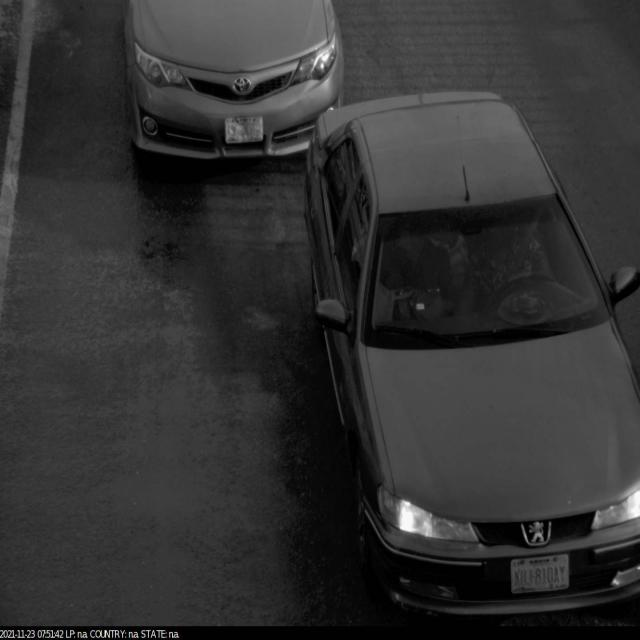windshield: (359, 189, 618, 364)
